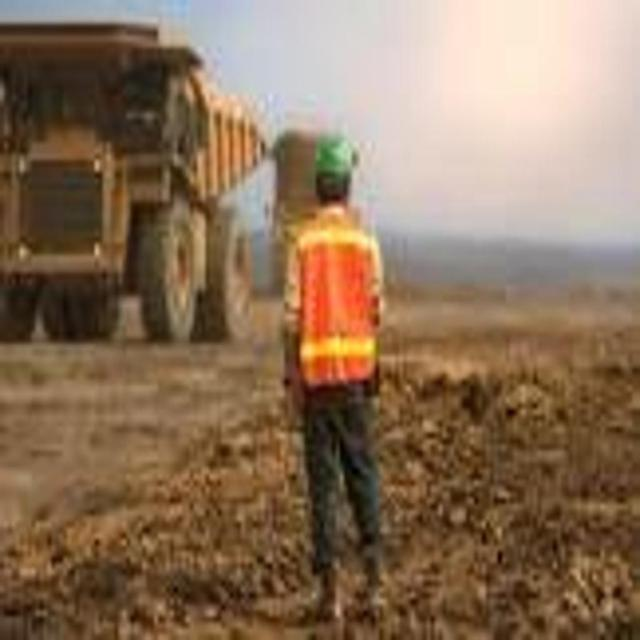dump_truck: (0, 0, 264, 371)
